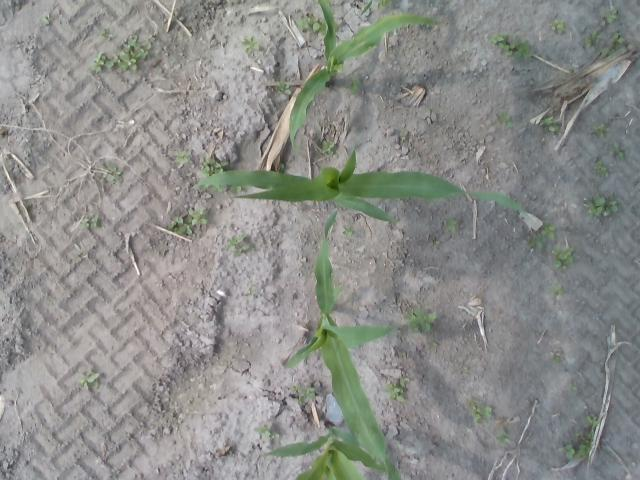Maize: (284, 210, 404, 480), (190, 149, 530, 223), (288, 0, 439, 152), (259, 423, 390, 480)
Weeds: (114, 36, 152, 70), (490, 36, 531, 58), (587, 195, 617, 215), (411, 308, 436, 332), (603, 32, 624, 54), (77, 370, 100, 390), (228, 234, 250, 253), (387, 383, 407, 401), (472, 406, 492, 424), (556, 248, 574, 267), (92, 55, 113, 70), (202, 158, 228, 170), (601, 8, 618, 26), (586, 30, 600, 51), (174, 218, 192, 234), (558, 444, 576, 460), (243, 38, 260, 54), (190, 208, 206, 225), (300, 386, 316, 403), (540, 224, 556, 238), (592, 123, 610, 135), (310, 16, 322, 33), (80, 217, 98, 228), (527, 235, 542, 248), (275, 83, 291, 95), (614, 142, 625, 158), (498, 429, 509, 445), (321, 142, 335, 154), (578, 442, 590, 456), (100, 29, 115, 40), (255, 426, 270, 437), (108, 164, 120, 177), (579, 432, 592, 444), (174, 151, 188, 162), (552, 20, 564, 32), (298, 18, 310, 30), (42, 12, 52, 26), (444, 219, 456, 230), (346, 80, 359, 90), (594, 163, 606, 172), (500, 112, 510, 122), (246, 286, 255, 296), (343, 225, 352, 235), (587, 414, 596, 424), (554, 284, 562, 294), (544, 118, 554, 126), (292, 386, 302, 393), (571, 380, 577, 390), (554, 356, 562, 362)
